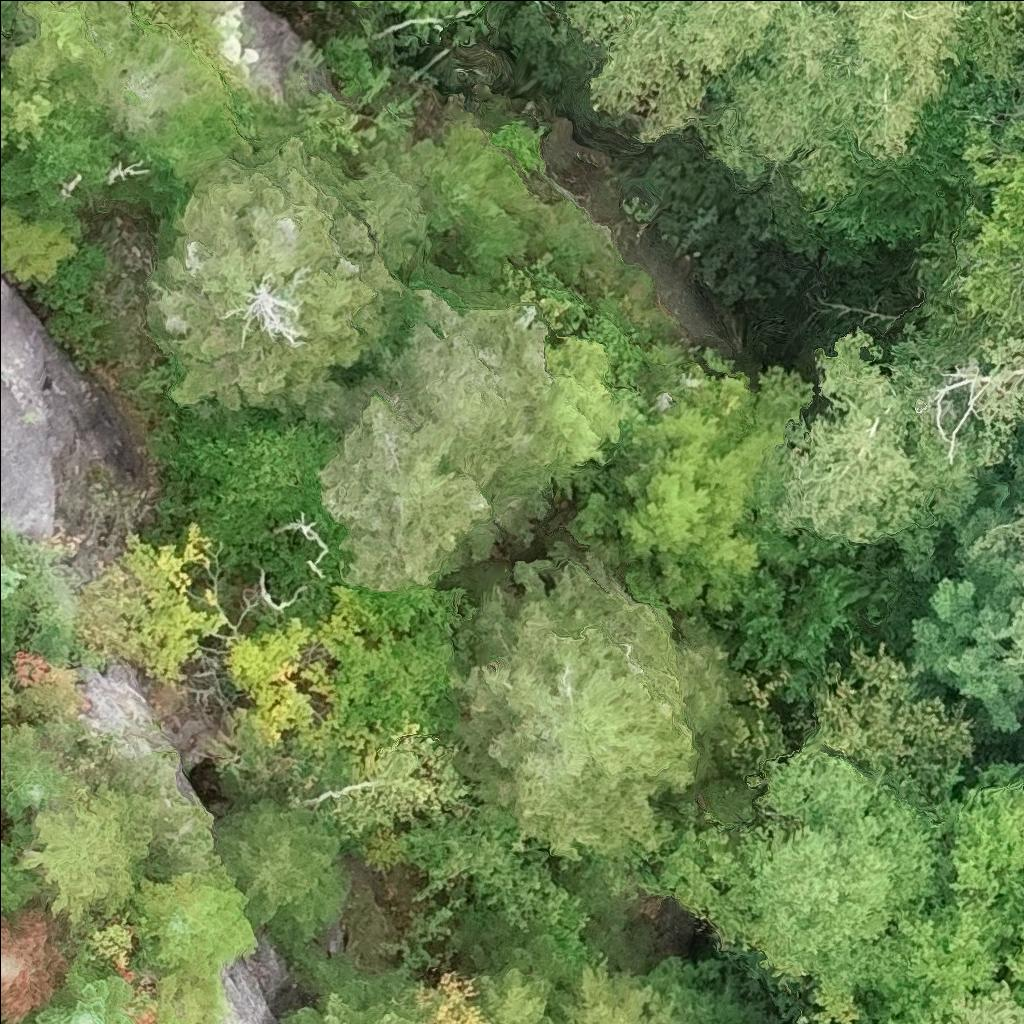crown: (448, 536, 753, 867), (558, 0, 979, 221), (148, 132, 439, 417), (659, 747, 945, 1023), (569, 354, 817, 626), (769, 328, 979, 563), (843, 761, 1023, 1023), (331, 291, 555, 492), (317, 390, 495, 589), (214, 796, 343, 937), (955, 114, 1023, 327), (131, 864, 253, 976), (275, 939, 425, 1023), (965, 313, 1023, 471), (0, 907, 74, 1023), (31, 963, 135, 1023), (0, 743, 69, 823), (962, 0, 1023, 77), (973, 491, 1023, 577), (943, 980, 1023, 1023), (1015, 593, 1023, 664), (356, 0, 393, 5), (0, 616, 4, 643)
